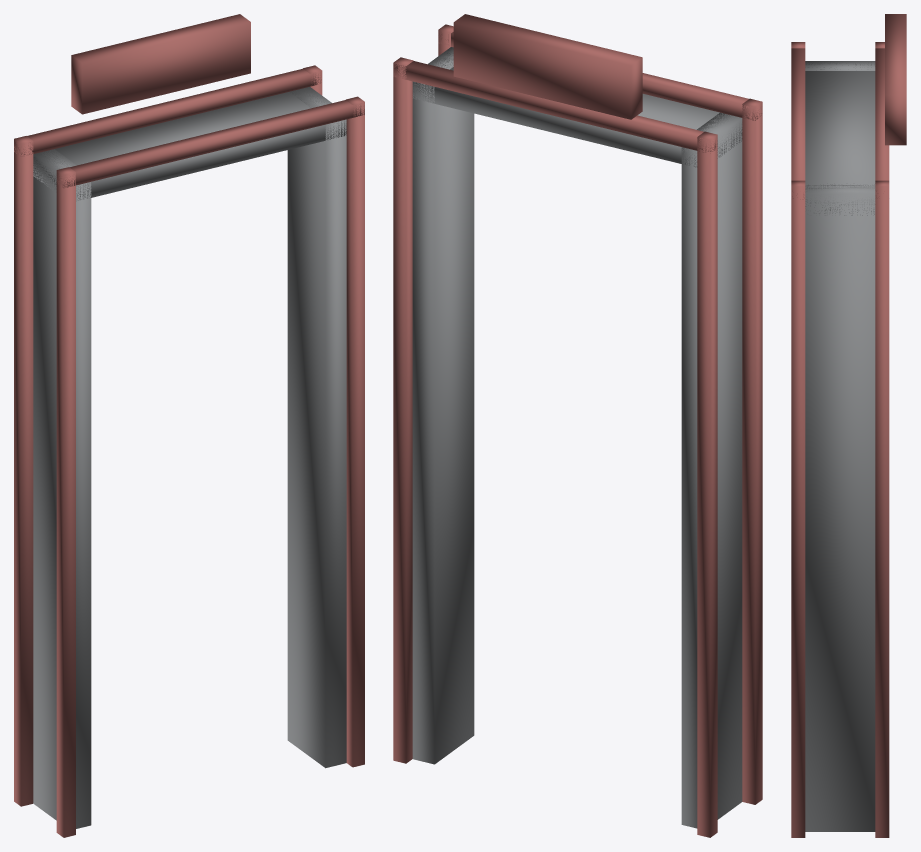
File: doorway_emergency_exit_w86_h220_d24.glb
The picture shows the model from 3 angles, left to right: view 1: azimuth 30°, elevation 25°; view 2: azimuth 150°, elevation 25°; view 3: azimuth 270°, elevation 25°; orthographic projection. The views are drawn at different scales.
Parts seen in each view (by area): view 1: world; view 2: world; view 3: world.
Part boxes in pixels (x1=…): world: x1=14, y1=14, x2=364, y2=837; world: x1=393, y1=14, x2=762, y2=837; world: x1=791, y1=14, x2=906, y2=837.
Size of the model in its own units: 1.1 by 2.54 by 0.3733.
